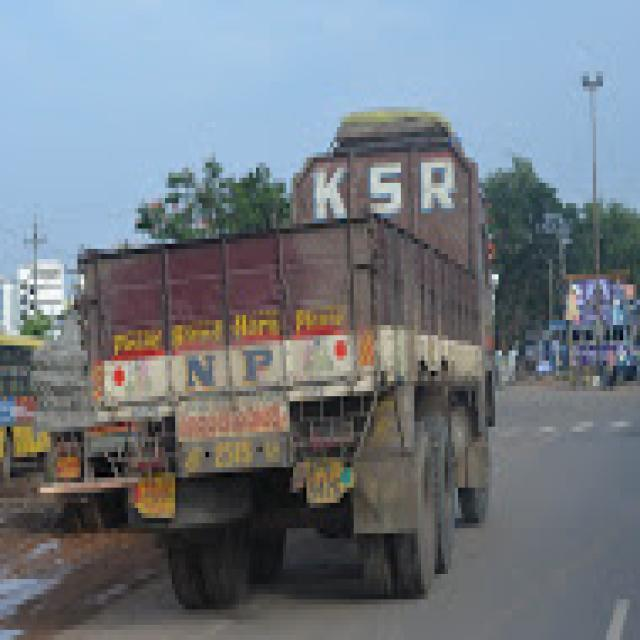truck_back: (71, 96, 501, 619)
